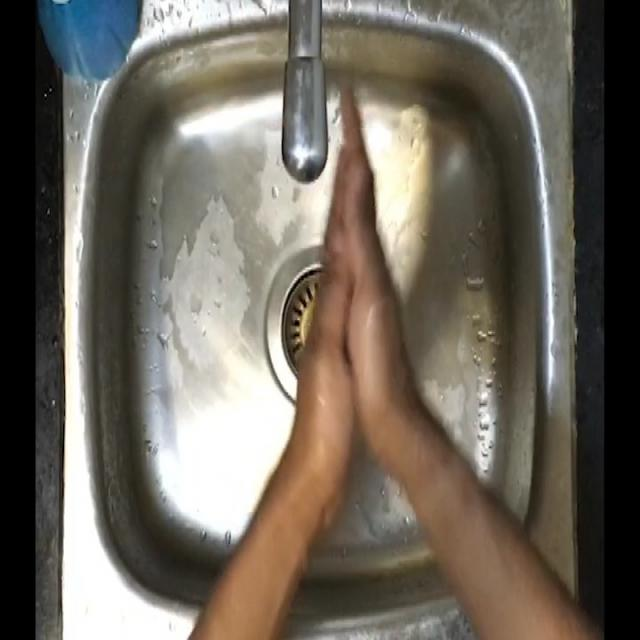step_1: (288, 58, 411, 437)
